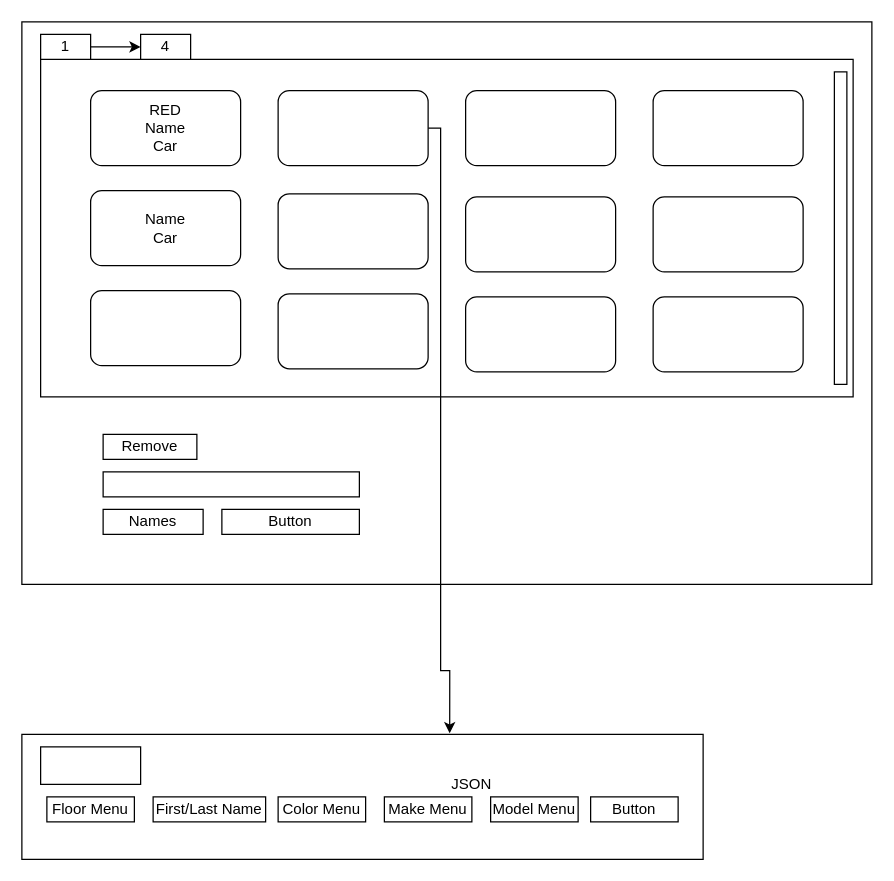
Image size: 894x881. Some labels were removed from this diagram. The centre of each missing label's shape, as x and y in pixels:
First Name Last Name: (x=230, y=484)
green Type Name, Car: (x=352, y=127)
Insert: (x=90, y=765)
